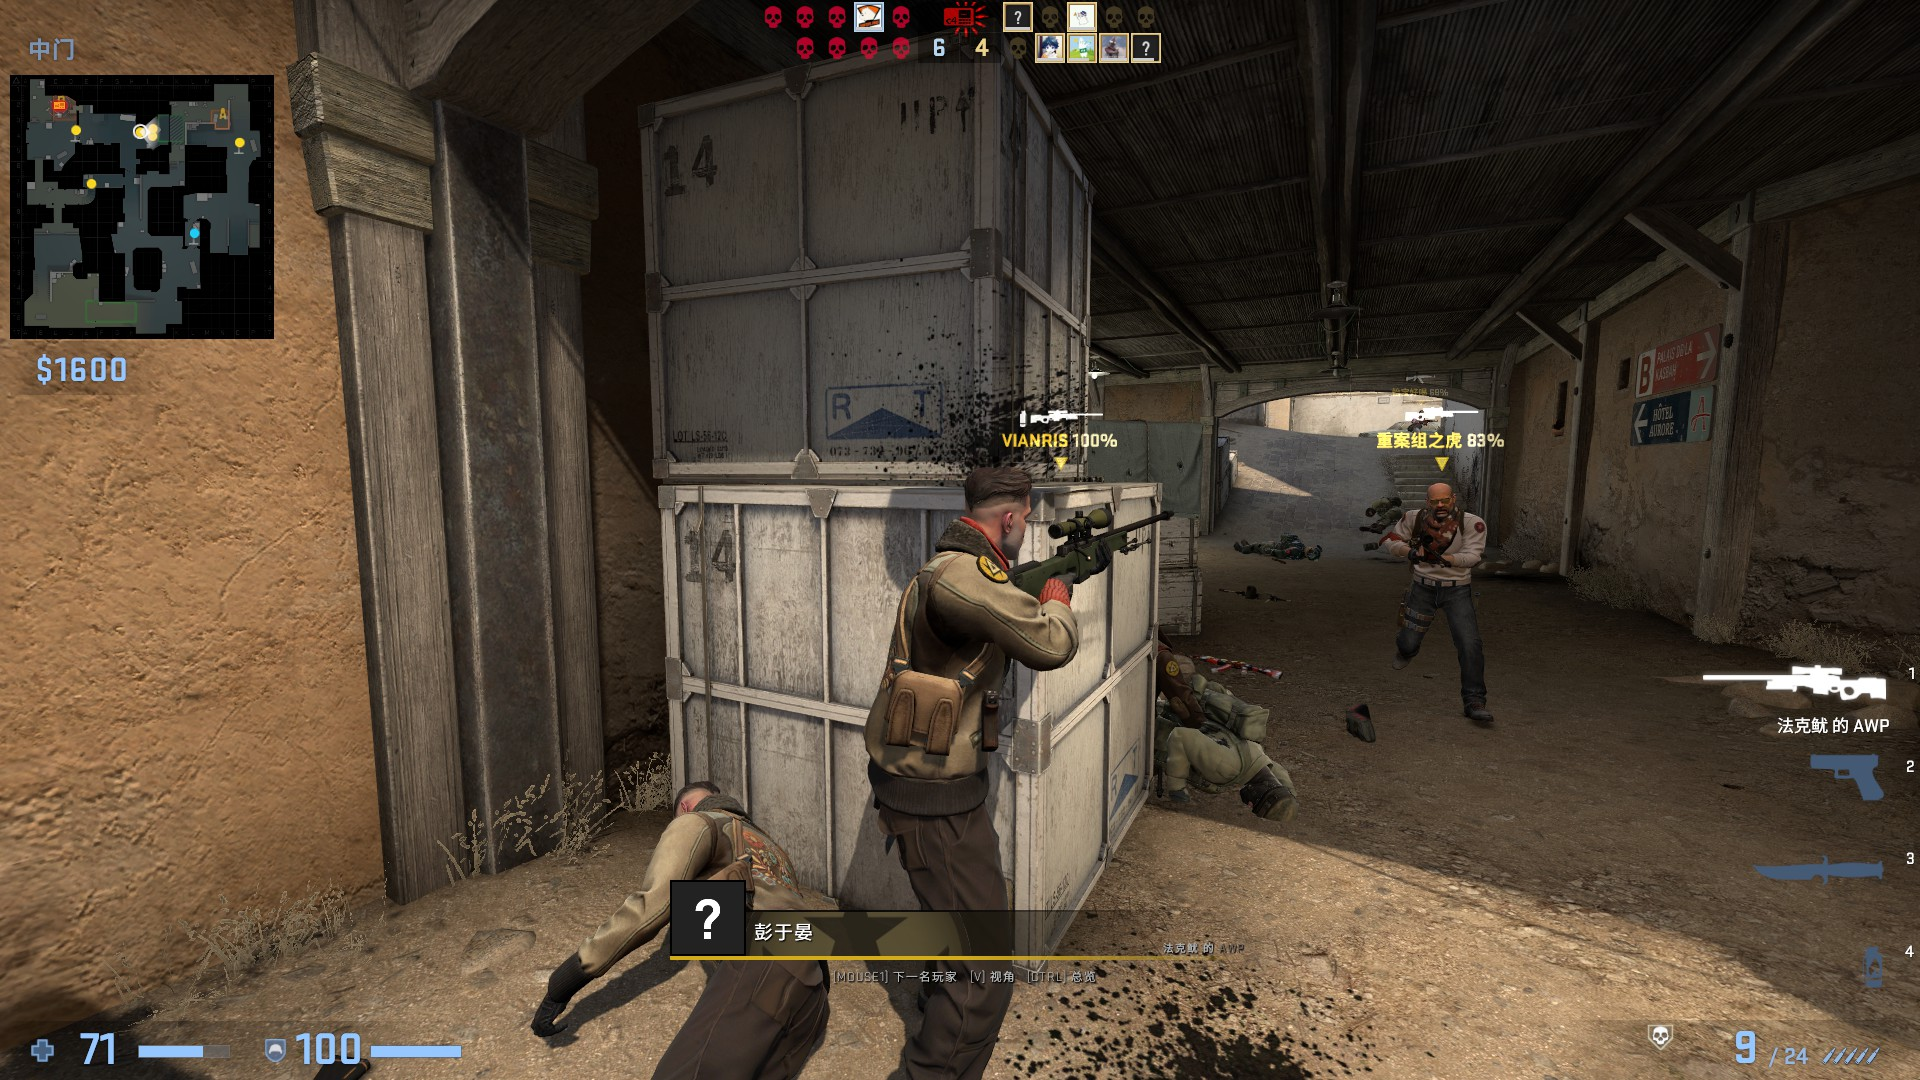head: (964, 465, 1032, 560), (1250, 784, 1307, 826), (665, 782, 717, 813), (1424, 482, 1454, 521), (1305, 545, 1323, 559), (1364, 506, 1376, 519)
